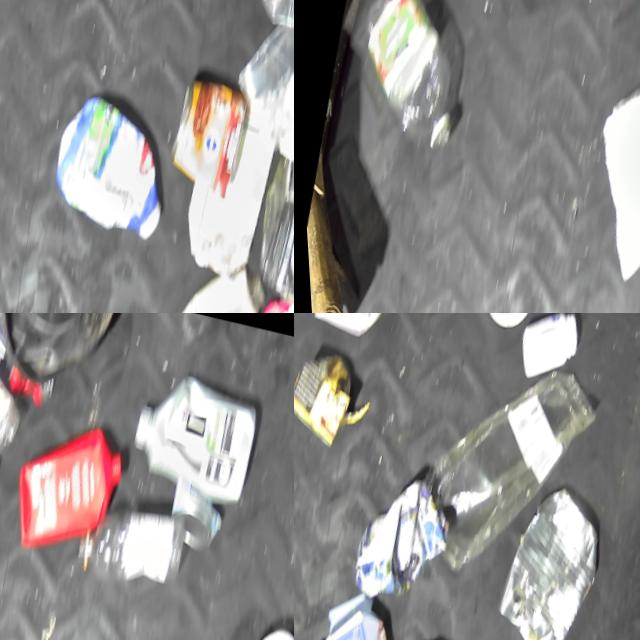can: (476, 475, 612, 640), (159, 75, 256, 198), (294, 343, 358, 449)
non_white_jug: (37, 94, 181, 243), (0, 413, 130, 565), (339, 466, 456, 612), (294, 584, 405, 640)
plastic_bottle: (339, 0, 488, 158), (563, 13, 640, 298), (69, 501, 187, 592)
